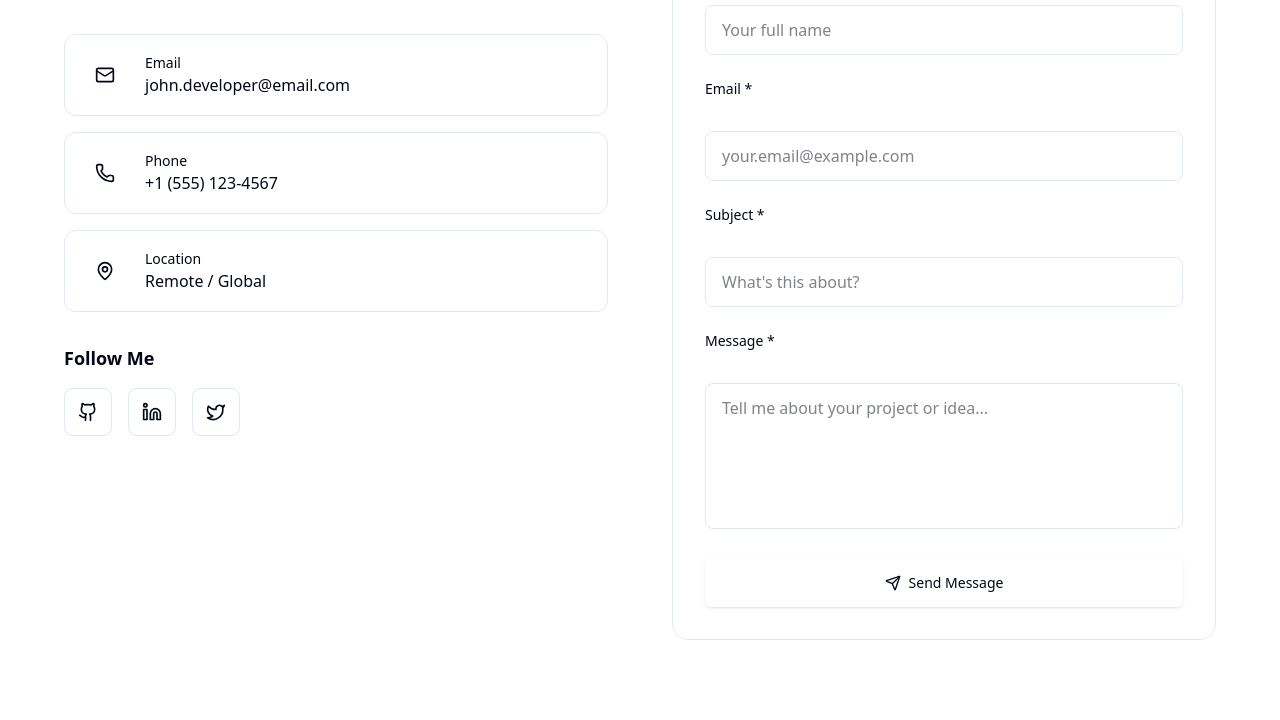
Contact › validates required fields
(page scrolled)
Click the button "Send Message".
click(944, 583)  # box [705, 559, 1183, 607]
(page scrolled)
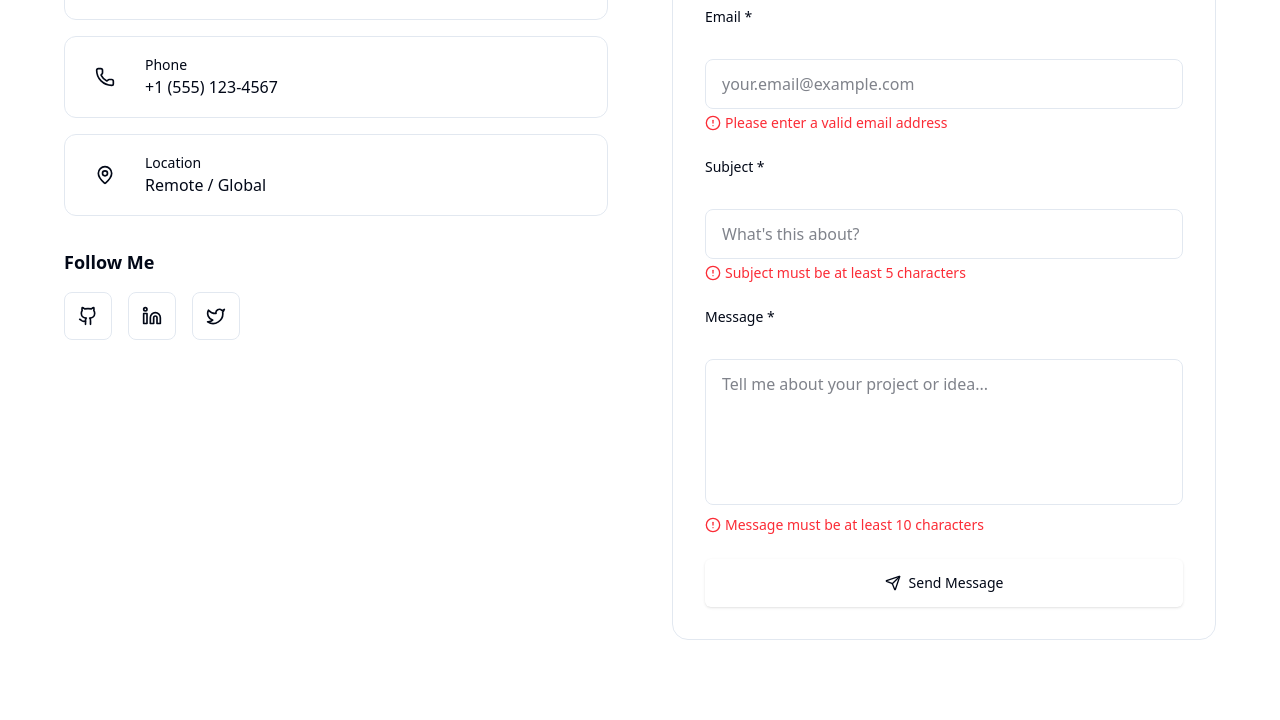
Result: the text "Please enter a valid email address" is shown at [705, 113, 948, 132]
Result: the text "Subject must be at least 5 characters" is shown at [705, 263, 966, 282]
Result: the text "Message must be at least 10 characters" is shown at [705, 515, 984, 534]
